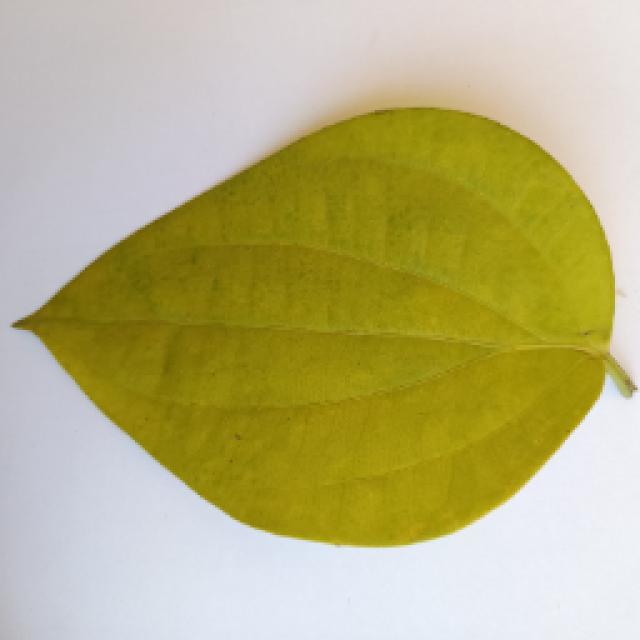slow-decline: (13, 105, 625, 545)
